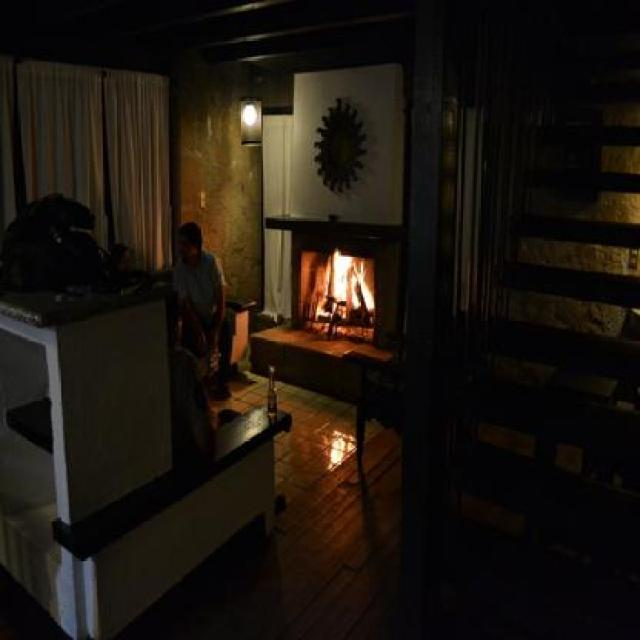Smoke: (327, 246, 378, 326)
